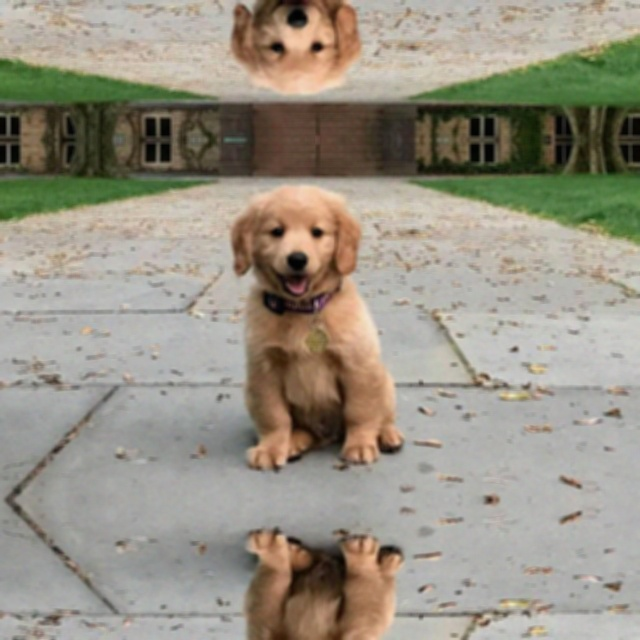dog: (219, 177, 371, 313), (219, 0, 371, 103)
